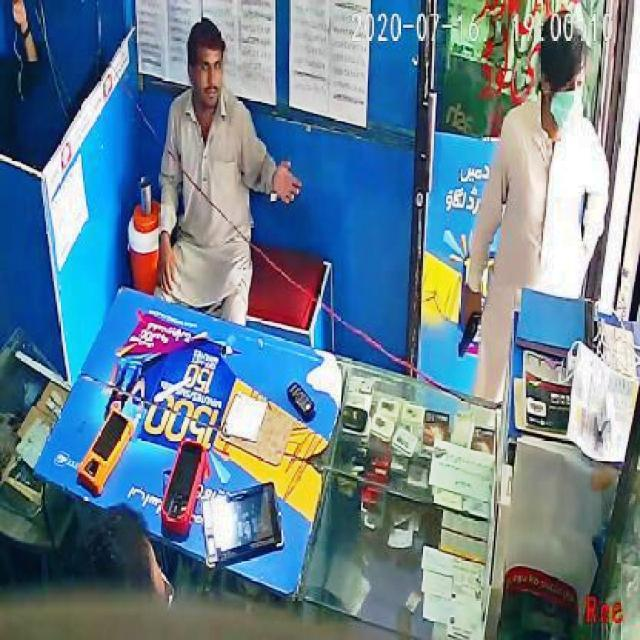Gun: (454, 294, 484, 363)
